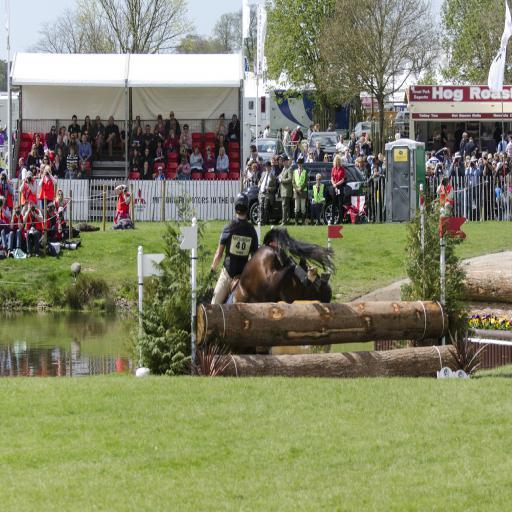horse: (223, 226, 340, 356)
